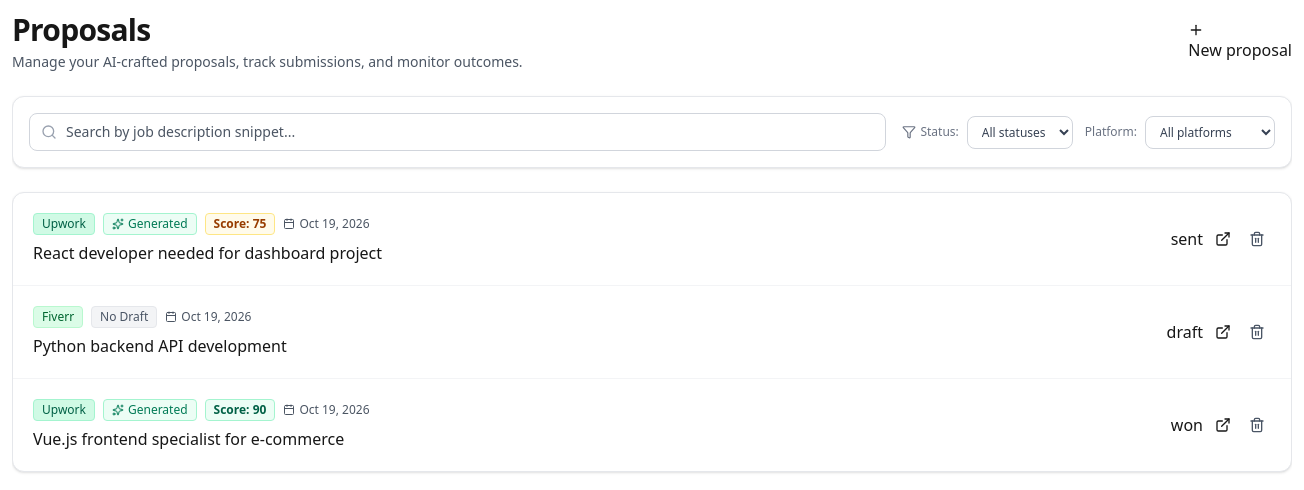
ProposalsList – filters and search › filters by platform using #filter-platform select
Select "Fiverr" in the dropdown with id "filter-platform": (1210, 132) [1145,116,1275,148]
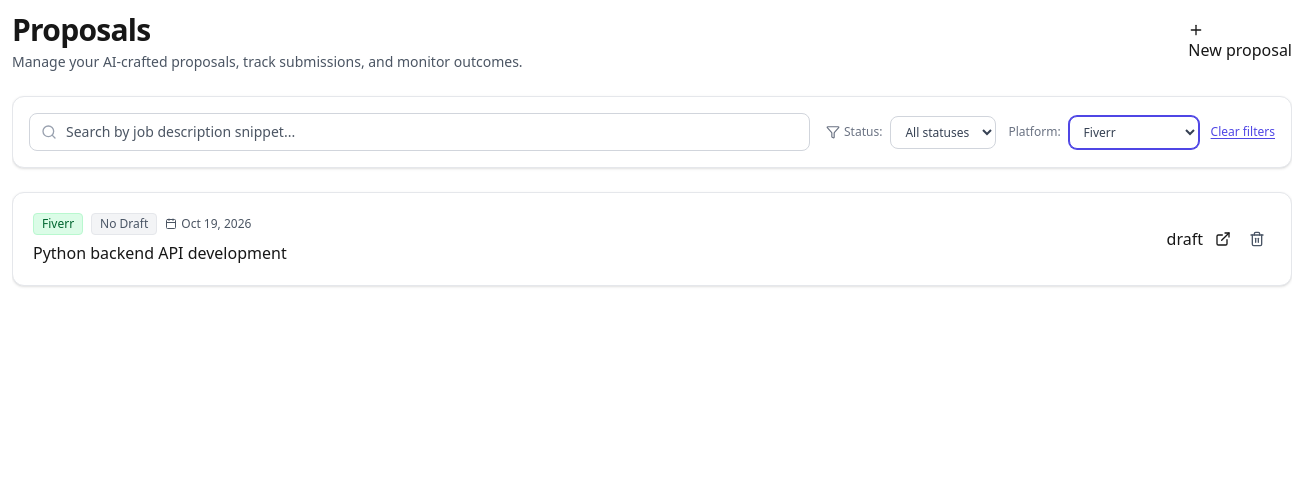
Expected: the link "Python backend API development" is shown, [33,242,287,264]
Expected: the link "React developer needed" is gone
